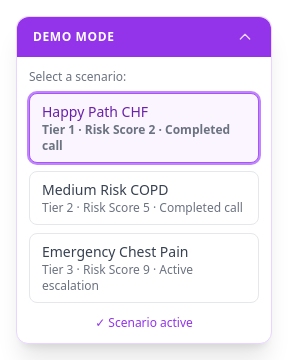
17.1 – DemoPanel collapse/expand toggle › clicking collapse button hides scenario buttons
Click the button named "collapse demo panel".
click(245, 37)  # box [235, 27, 255, 47]
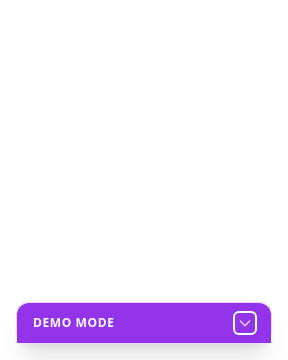
Expected: the button with test id "demo-scenario-happy-path-chf" is gone
